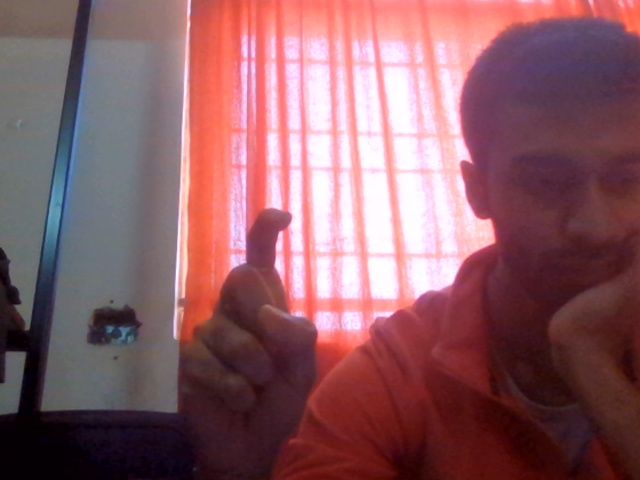X: (148, 198, 383, 480)
